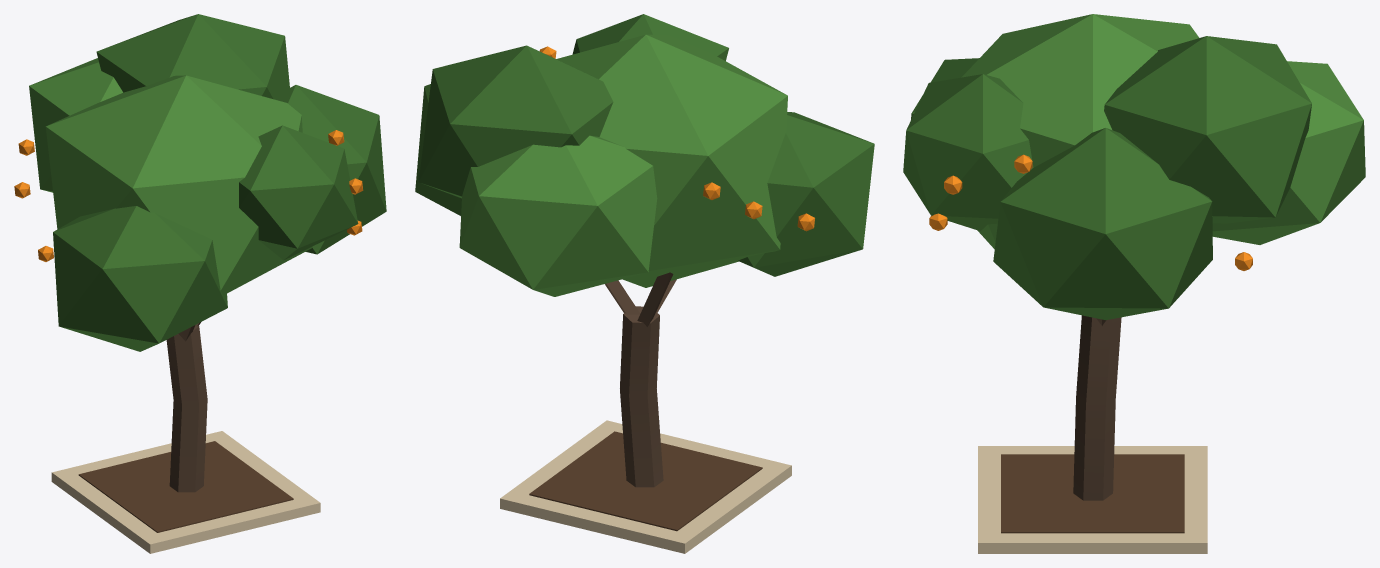
3 renders of one model, left to right at view 1: azimuth 30°, elevation 25°; view 2: azimuth 150°, elevation 25°; view 3: azimuth 270°, elevation 25°, orthographic. The views are drawn at different scales.
Parts seen in each view (by area): view 1: orange_tree.lod1; view 2: orange_tree.lod1; view 3: orange_tree.lod1.
Boxes of the visible parts, x1,y1,x2,y2 form: orange_tree.lod1: (14, 14, 386, 553); orange_tree.lod1: (415, 14, 874, 553); orange_tree.lod1: (903, 14, 1365, 553).
Size of the model in its own units: 3.19 by 3.65 by 3.02.
